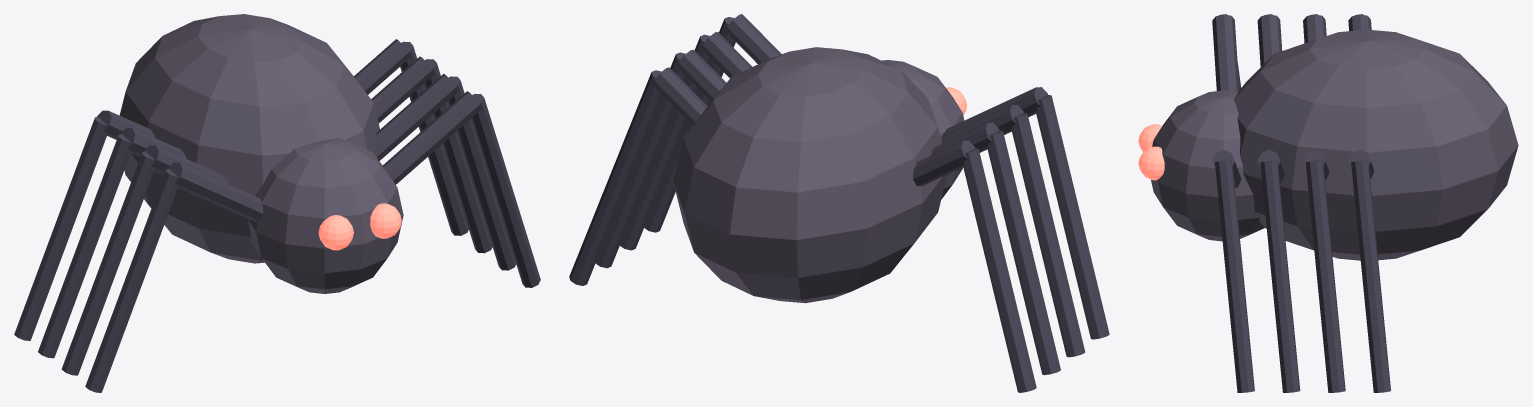
File: creature_spider_dark.glb
3 views of the same model, side by side, from view 1: azimuth 30°, elevation 25°; view 2: azimuth 150°, elevation 25°; view 3: azimuth 270°, elevation 25° (orthographic). The views are drawn at different scales.
Visible parts, largest first — view 1: creature_spider_dark; view 2: creature_spider_dark; view 3: creature_spider_dark.
Boxes of the visible parts, x1,y1,x2,y2 form: creature_spider_dark: (14,14,540,392); creature_spider_dark: (569,14,1109,392); creature_spider_dark: (1138,14,1518,392).
Bounding box in the file's own units: 1.81 × 1 × 1.37.
